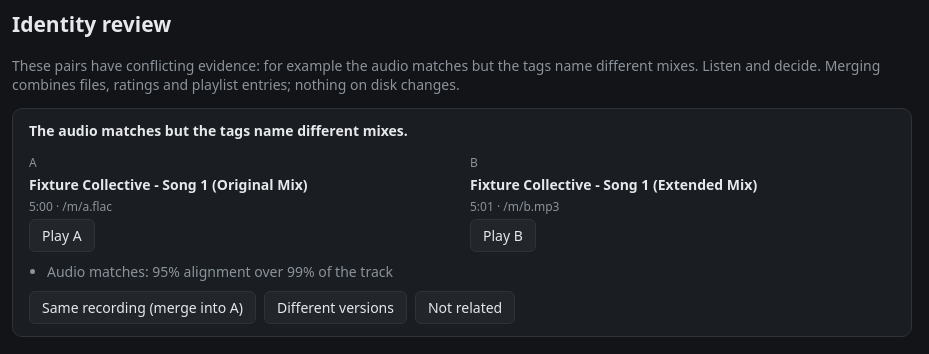
it: Identity review › Not related resolves as unrelated
Click the button "Not related": (465, 307) [415, 291, 515, 324]
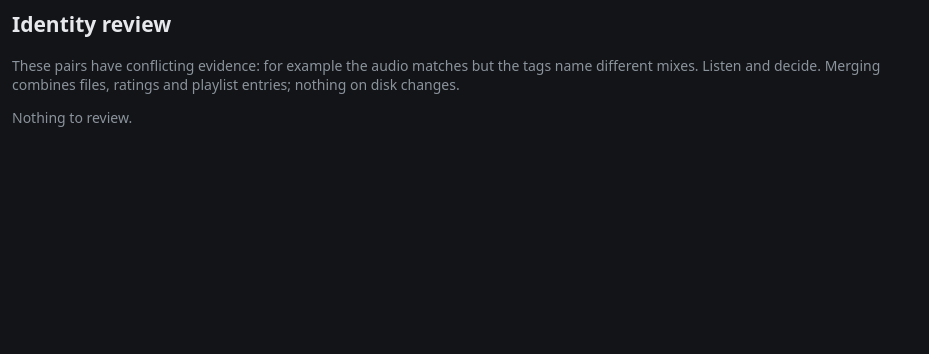
expect the text "Nothing to review." is shown: met, box [12, 108, 132, 127]
